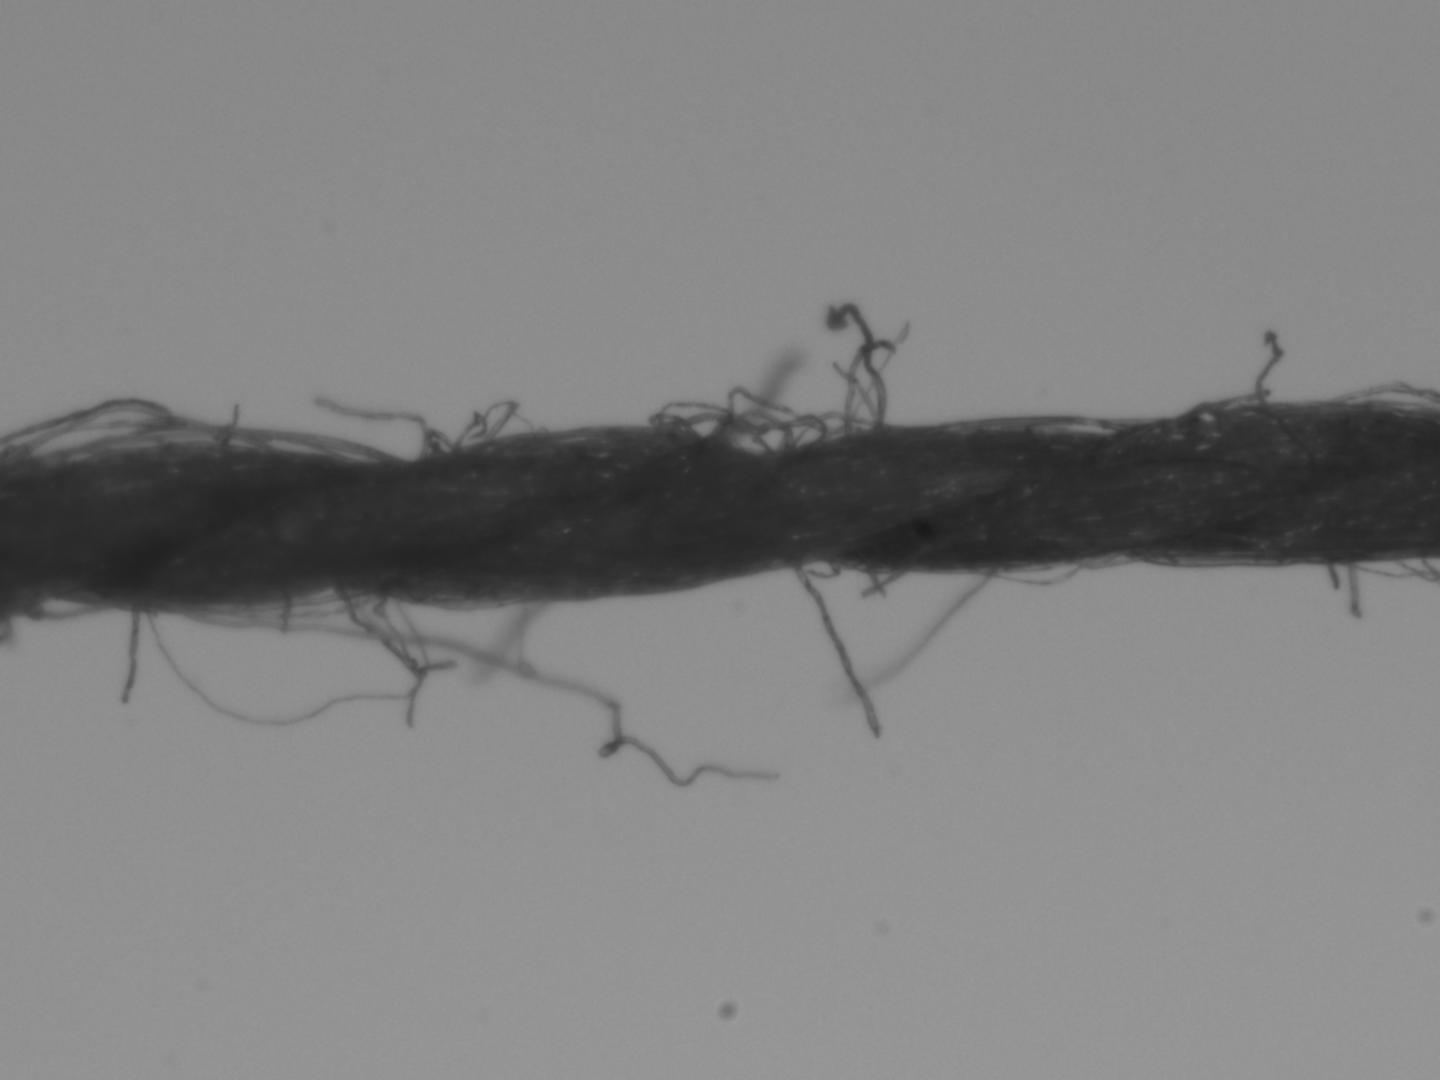loop_fiber: (100, 419, 390, 463), (203, 591, 365, 624), (956, 414, 1151, 436), (725, 407, 791, 457), (977, 555, 1078, 587), (11, 594, 103, 621), (1333, 385, 1432, 408), (797, 557, 847, 581)
protruding_fiber: (785, 563, 886, 737), (317, 390, 426, 465), (827, 306, 889, 433), (115, 605, 143, 709), (1254, 331, 1285, 407), (1349, 554, 1364, 618)
